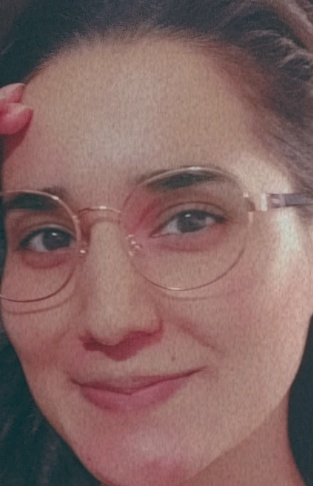pustule: (139, 447, 167, 481)
